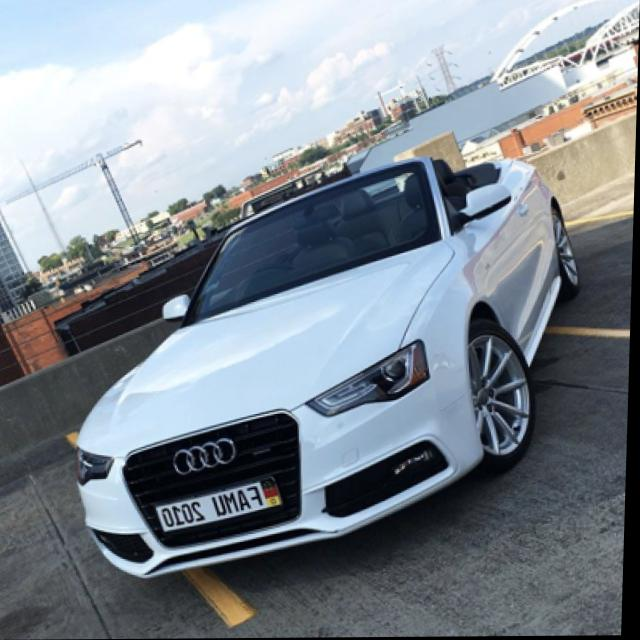licence: (157, 477, 275, 537)
